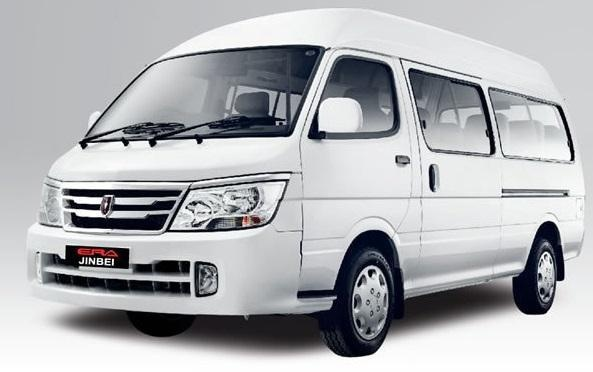van: (30, 7, 590, 336)
